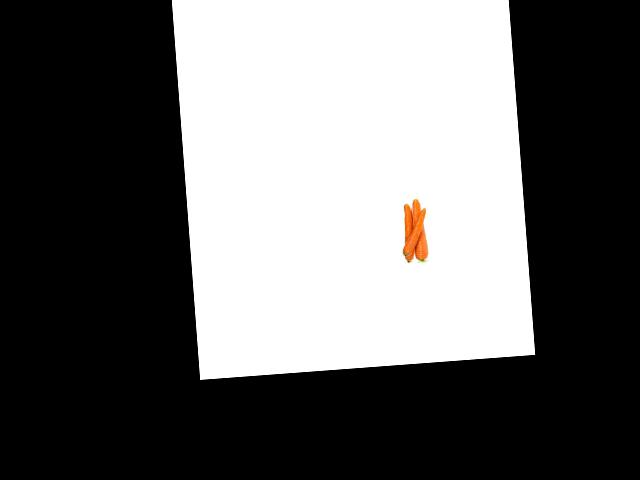carrot: (399, 201, 417, 267)
